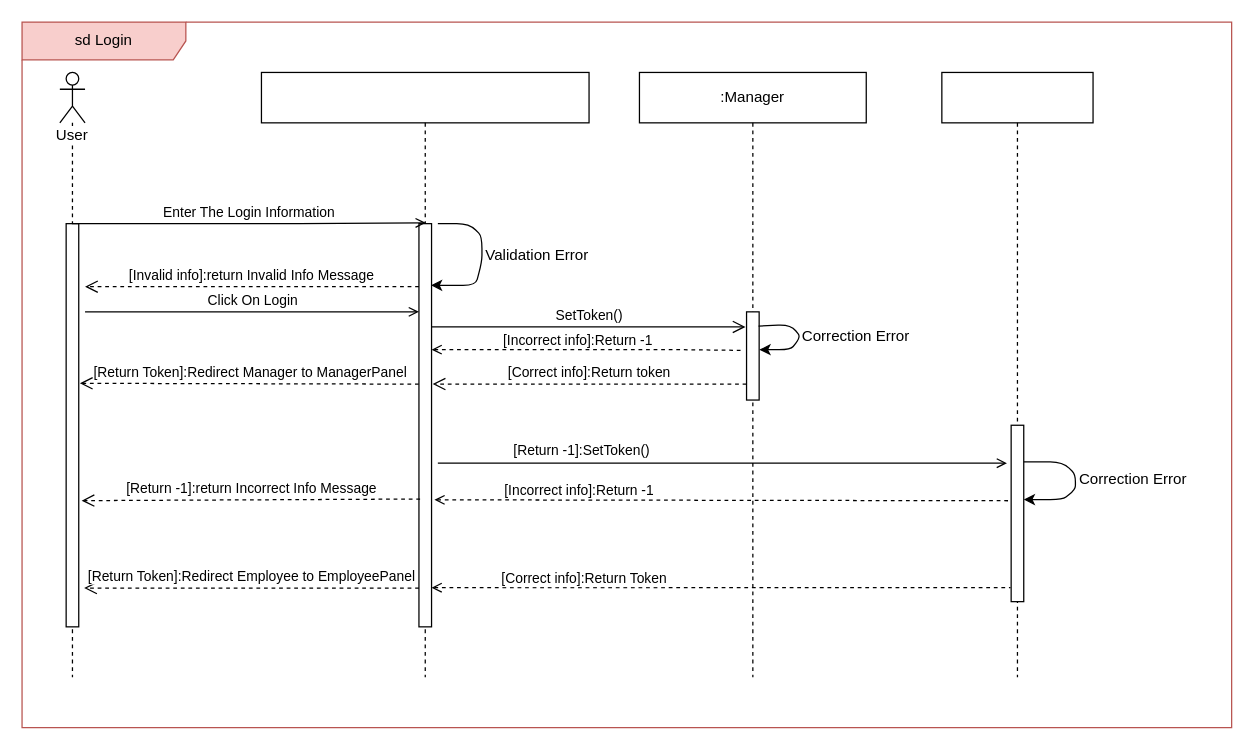
Some shapes in this 1254 by 750 pixel diagram are drawn without their labels. Here are the shapes that lost their labels. From the top down, the box of each, then its label:
(260, 71, 589, 677): << Authentication Panel >>
(941, 71, 1093, 677): :Employee
